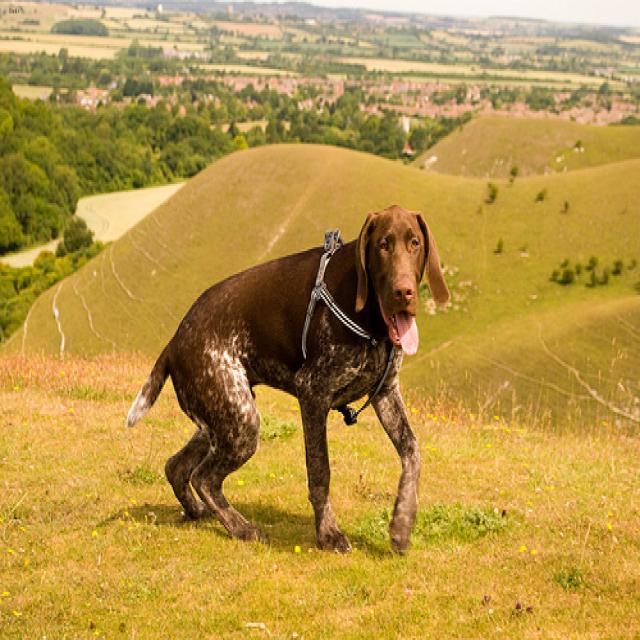dog-german_shorthaired: (119, 197, 452, 558)
